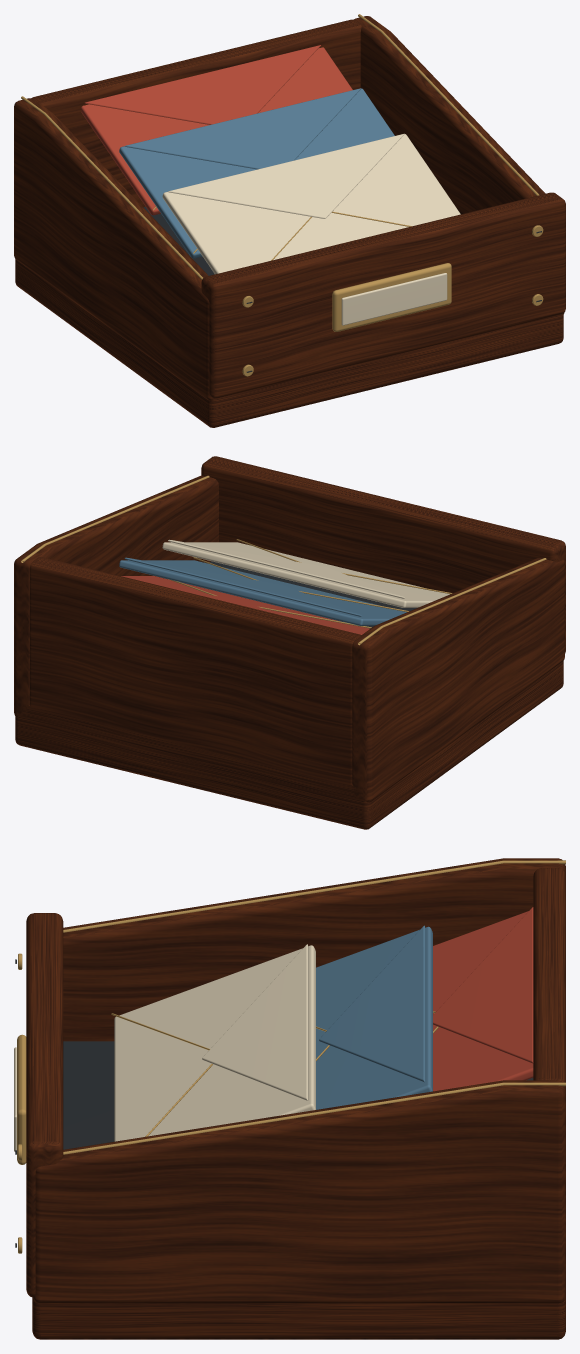
The model's file is escritorio_bandeja_correspondencia.glb.
3 renders of one model, top to bottom at view 1: azimuth 30°, elevation 25°; view 2: azimuth 150°, elevation 25°; view 3: azimuth 270°, elevation 25°, orthographic. The views are drawn at different scales.
Visible parts, largest first — view 1: bandeja_correspondencia; view 2: bandeja_correspondencia; view 3: bandeja_correspondencia.
Part boxes in pixels (left/top/right/bottom): bandeja_correspondencia: left=14, top=14, right=565, bottom=427; bandeja_correspondencia: left=14, top=456, right=565, bottom=829; bandeja_correspondencia: left=14, top=858, right=565, bottom=1339.
Size of the model in its own units: 0.272 by 0.141 by 0.269.
6 materials, 1 textured.
